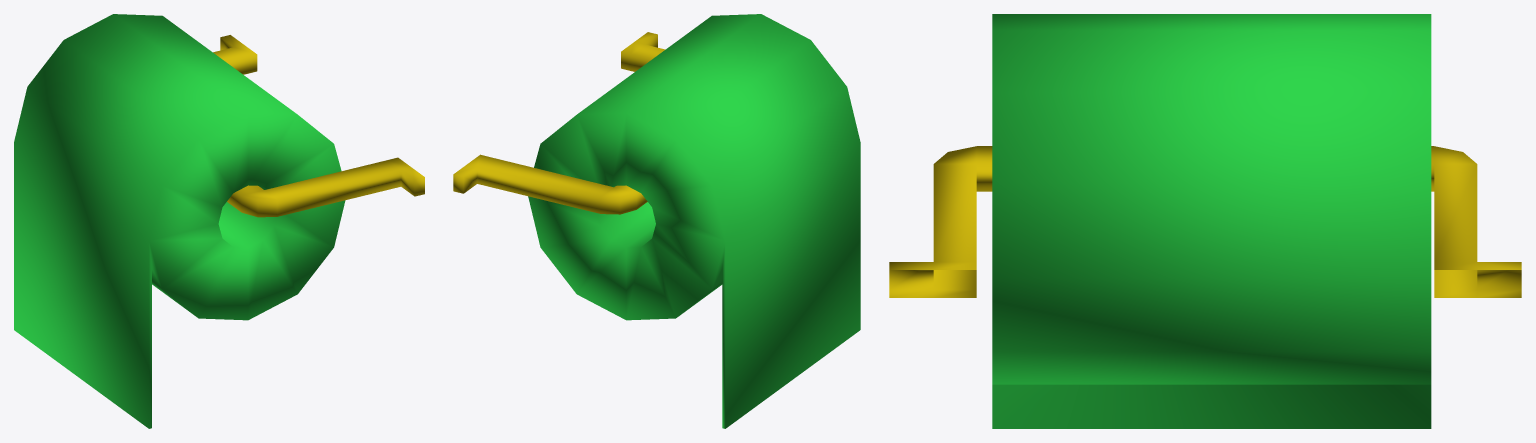
Rendered from MOD_PRO_Toilet_paper_01.fbx.
The picture shows the model from 3 angles, left to right: view 1: azimuth 30°, elevation 25°; view 2: azimuth 150°, elevation 25°; view 3: azimuth 270°, elevation 25°; orthographic projection. The views are drawn at different scales.
Parts seen in each view (by area): view 1: HSHP_MOD_Toilet_paper; view 2: HSHP_MOD_Toilet_paper; view 3: HSHP_MOD_Toilet_paper.
Boxes of the visible parts, x1,y1,x2,y2 form: HSHP_MOD_Toilet_paper: (14,14,424,428); HSHP_MOD_Toilet_paper: (453,14,860,428); HSHP_MOD_Toilet_paper: (889,14,1521,428).
Size of the model in its own units: 0.1567 by 0.179 by 0.2161.
